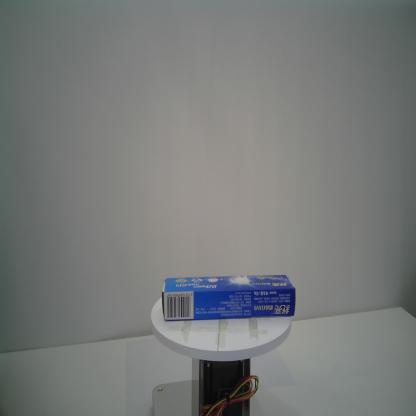Personal Hygiene: (160, 274, 297, 322)
